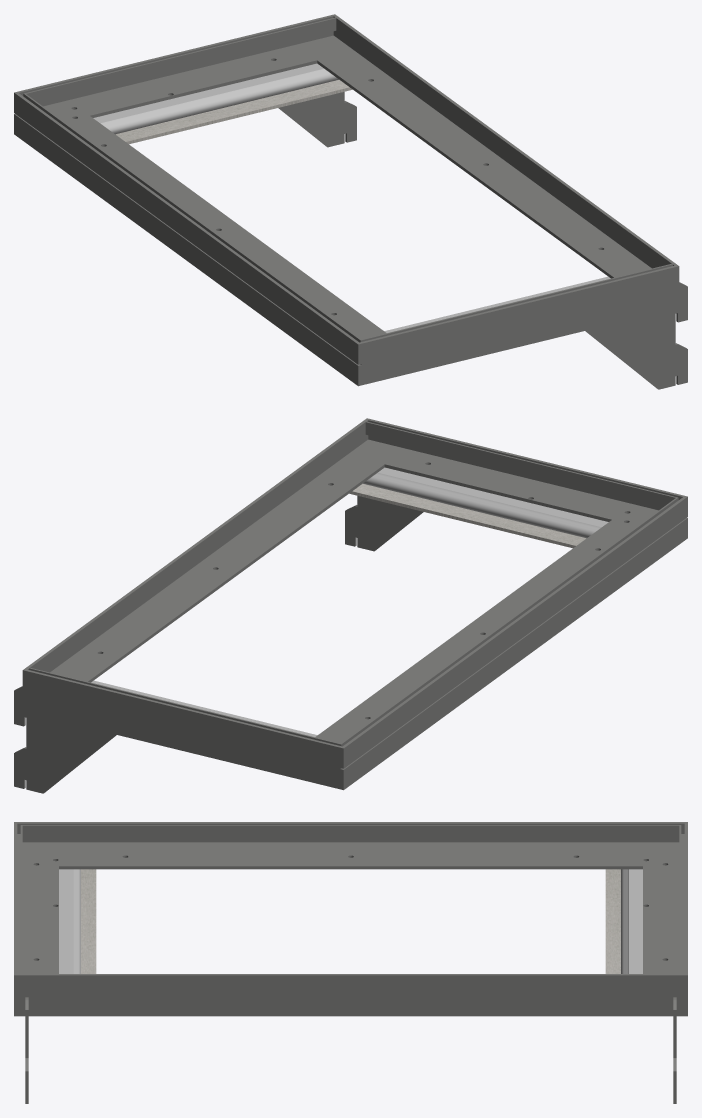
3 views of the same model, one above another, from view 1: azimuth 30°, elevation 25°; view 2: azimuth 150°, elevation 25°; view 3: azimuth 270°, elevation 25° (orthographic). The views are drawn at different scales.
Parts seen in each view (by area): view 1: T_BAR_SIDE (×2), Back_H_Flat_Bar, Front_Flatbar_Shelf, 317 Shelf support (×2), Front_Flatbar, Front_Flabar, Back_T_Flat_Bar, L_Top_Rebate, DRW RUNNER (×2), Flatbar_Side_Runner; view 2: T_BAR_SIDE (×2), Back_H_Flat_Bar, Front_Flatbar_Shelf, 317 Shelf support (×2), Front_Flatbar, Front_Flabar, Back_T_Flat_Bar, L_Top_Rebate, DRW RUNNER (×2), Flatbar_Side_Runner; view 3: Back_T_Flat_Bar, Front_Flabar, T_BAR_SIDE (×2), L_Top_Rebate, Front_Flatbar_Shelf, DRW RUNNER (×2), Flatbar_Side_Runner (×2).
Boxes of the visible parts, <box> form: T_BAR_SIDE (×2): <box>17,14,679,385</box>; Back_H_Flat_Bar: <box>317,51,651,278</box>; Front_Flatbar_Shelf: <box>14,92,361,364</box>; 317 Shelf support (×2): <box>278,92,687,389</box>; Front_Flatbar: <box>14,113,361,386</box>; Front_Flabar: <box>65,116,386,339</box>; Back_T_Flat_Bar: <box>333,15,676,268</box>; L_Top_Rebate: <box>23,17,672,342</box>; DRW RUNNER (×2): <box>93,63,610,332</box>; Flatbar_Side_Runner: <box>115,79,352,144</box>; T_BAR_SIDE (×2): <box>22,418,684,789</box>; Back_H_Flat_Bar: <box>50,455,384,682</box>; Front_Flatbar_Shelf: <box>340,496,687,768</box>; 317 Shelf support (×2): <box>14,496,423,793</box>; Front_Flatbar: <box>340,517,687,790</box>; Front_Flabar: <box>315,520,636,743</box>; Back_T_Flat_Bar: <box>25,419,368,672</box>; L_Top_Rebate: <box>29,421,678,746</box>; DRW RUNNER (×2): <box>91,467,608,736</box>; Flatbar_Side_Runner: <box>349,483,586,548</box>; Back_T_Flat_Bar: <box>17,974,684,1016</box>; Front_Flabar: <box>59,842,642,869</box>; T_BAR_SIDE (×2): <box>14,823,687,1016</box>; L_Top_Rebate: <box>17,825,684,973</box>; Front_Flatbar_Shelf: <box>14,822,687,842</box>; DRW RUNNER (×2): <box>59,869,642,973</box>; Flatbar_Side_Runner (×2): <box>81,869,620,973</box>.
Size of the model in its own units: 0.3365 by 0.119 by 0.598.
4 materials, 1 textured.
